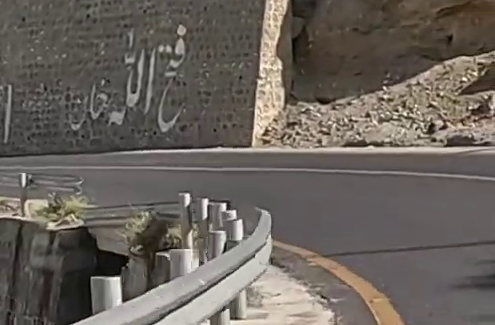right: (147, 143, 495, 325)
